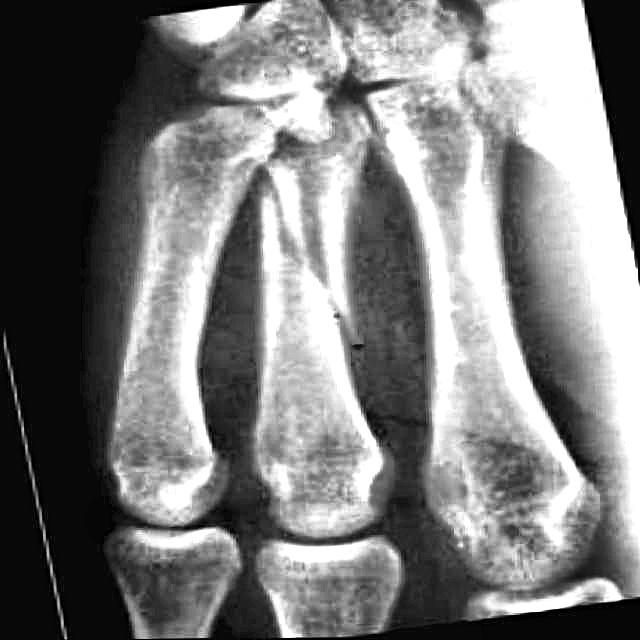Oblique Displaced: (241, 134, 383, 356)
